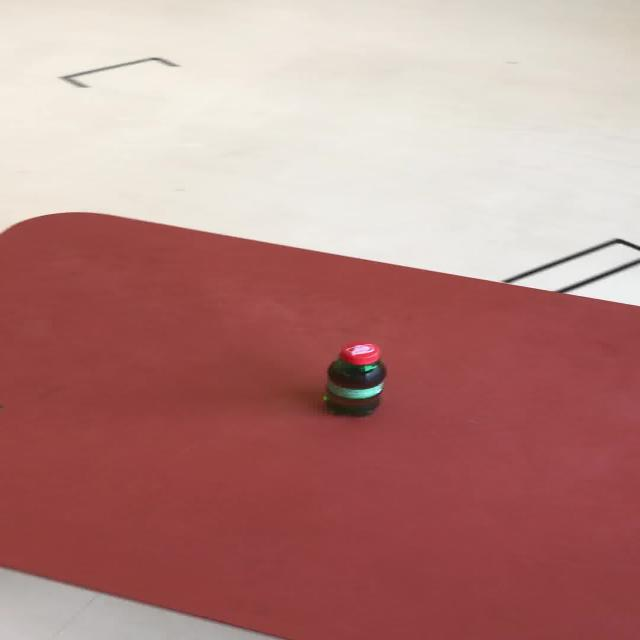guarana: (320, 341, 386, 416)
